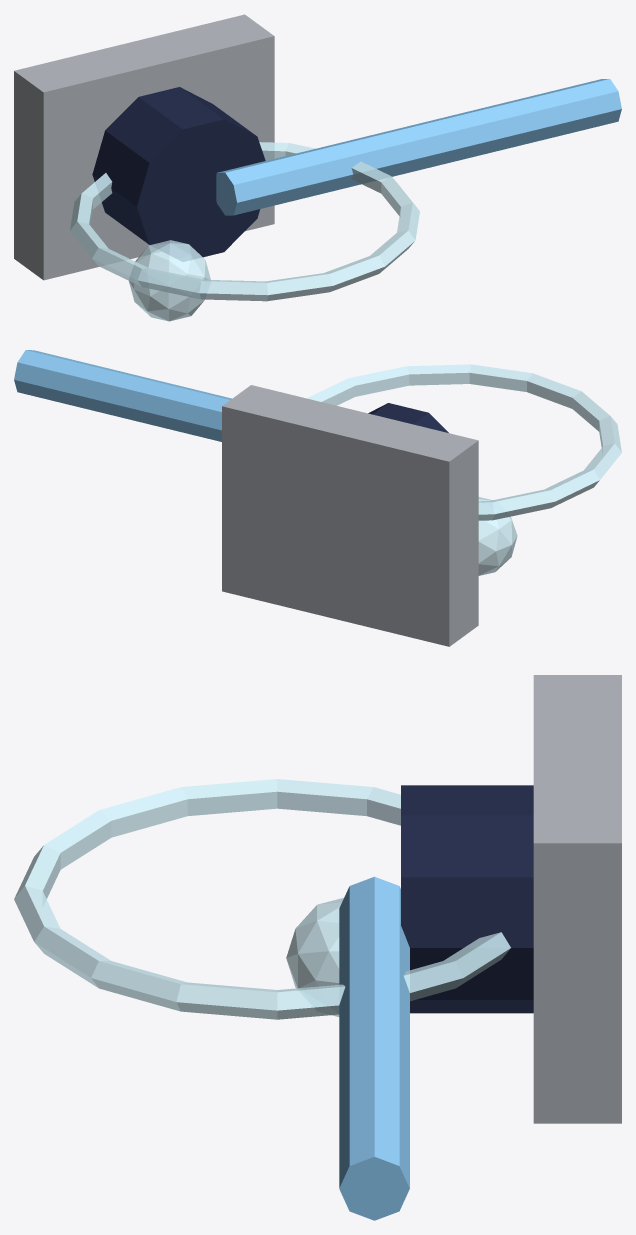
The model's file is 09_skyship_defense.glb.
3 views of the same model, one above another, from view 1: azimuth 30°, elevation 25°; view 2: azimuth 150°, elevation 25°; view 3: azimuth 270°, elevation 25° (orthographic). The views are drawn at different scales.
Parts seen in each view (by area): view 1: weapon_mount_base, turret_pivot, cannon_barrel, shield_projector_ring, targeting_core; view 2: weapon_mount_base, shield_projector_ring, cannon_barrel, targeting_core, turret_pivot; view 3: weapon_mount_base, turret_pivot, shield_projector_ring, cannon_barrel, targeting_core.
Boxes of the visible parts, left/top/right/bottom form: weapon_mount_base: left=14, top=14, right=274, bottom=280; turret_pivot: left=92, top=87, right=265, bottom=261; cannon_barrel: left=216, top=79, right=621, bottom=215; shield_projector_ring: left=70, top=142, right=419, bottom=301; targeting_core: left=129, top=240, right=210, bottom=321; weapon_mount_base: left=222, top=385, right=478, bottom=646; shield_projector_ring: left=307, top=364, right=621, bottom=520; cannon_barrel: left=14, top=350, right=231, bottom=441; targeting_core: left=478, top=497, right=517, bottom=575; turret_pivot: left=368, top=403, right=448, bottom=432; weapon_mount_base: left=533, top=675, right=621, bottom=1123; turret_pivot: left=401, top=785, right=533, bottom=1013; shield_projector_ring: left=14, top=779, right=510, bottom=1019; cannon_barrel: left=339, top=876, right=409, bottom=1220; targeting_core: left=286, top=898, right=343, bottom=1016.
Bounding box in the file's own units: 3 × 1.02 × 1.93.
